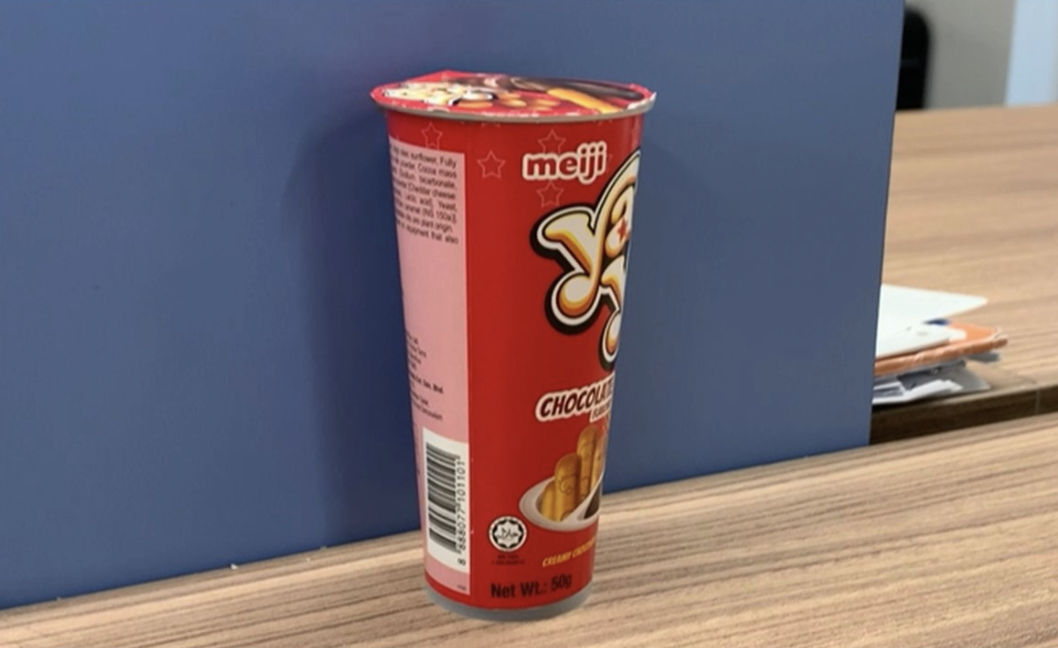crackers_1g-99g: (418, 139, 600, 599)
